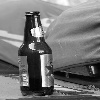beer: (17, 13, 55, 96)
